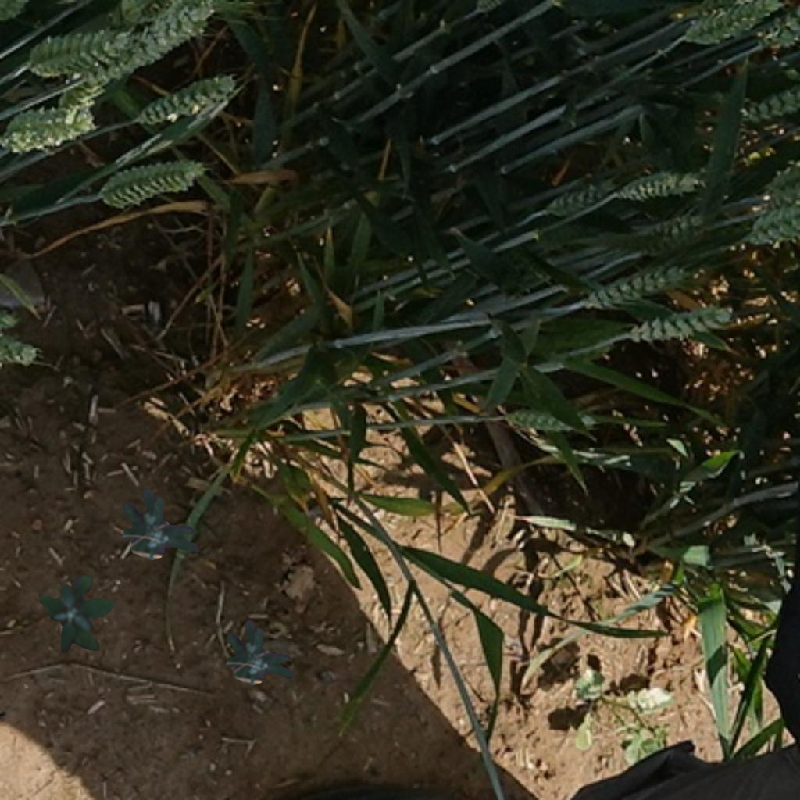spikelet: (1, 85, 97, 153), (117, 2, 213, 69), (564, 264, 688, 314), (96, 158, 215, 207), (137, 69, 235, 126), (539, 163, 633, 221), (26, 25, 119, 75), (681, 1, 782, 43), (628, 306, 723, 350), (632, 214, 720, 258), (605, 173, 700, 203), (735, 205, 800, 247), (55, 59, 111, 107), (737, 89, 800, 121), (754, 165, 798, 210), (760, 7, 800, 44)
weed: (39, 575, 115, 654), (122, 488, 199, 560), (226, 620, 295, 685)
